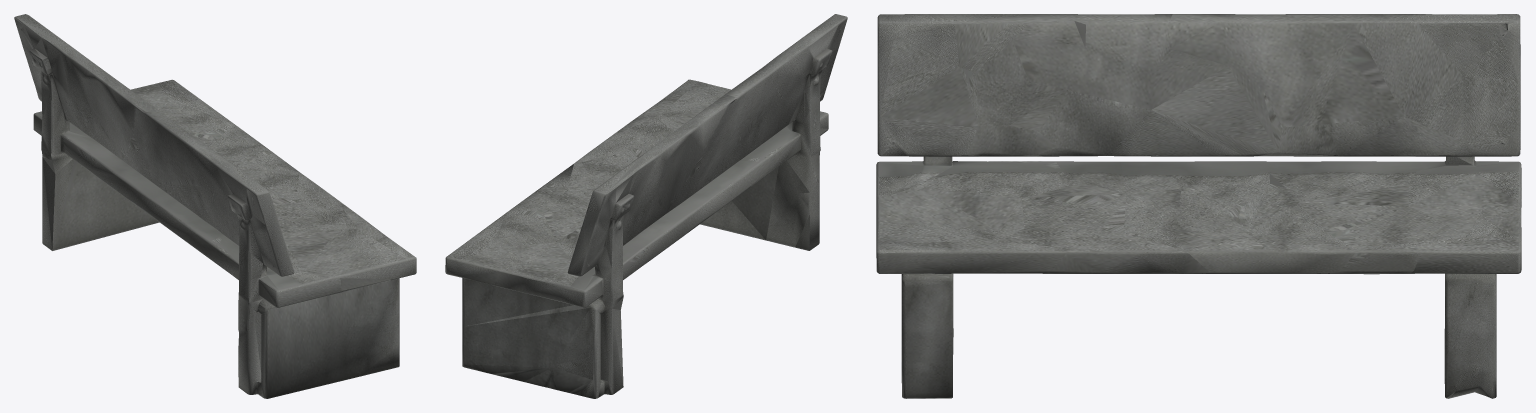
Rendered from banco-de-praca-concreto__01a1b60e_LOD1.glb.
The picture shows the model from 3 angles, left to right: view 1: azimuth 30°, elevation 25°; view 2: azimuth 150°, elevation 25°; view 3: azimuth 270°, elevation 25°; orthographic projection. The views are drawn at different scales.
Visible parts, largest first — view 1: banco-de-praca-concreto__01a1b60e_LOD1; view 2: banco-de-praca-concreto__01a1b60e_LOD1; view 3: banco-de-praca-concreto__01a1b60e_LOD1.
Part boxes in pixels (x1,y1,x2,y2): banco-de-praca-concreto__01a1b60e_LOD1: [14, 14, 416, 398]; banco-de-praca-concreto__01a1b60e_LOD1: [445, 14, 847, 398]; banco-de-praca-concreto__01a1b60e_LOD1: [876, 14, 1521, 398].
Bounding box in the file's own units: 0.6203 × 0.7999 × 1.63.
Materials: 1 (1 with a texture image).
